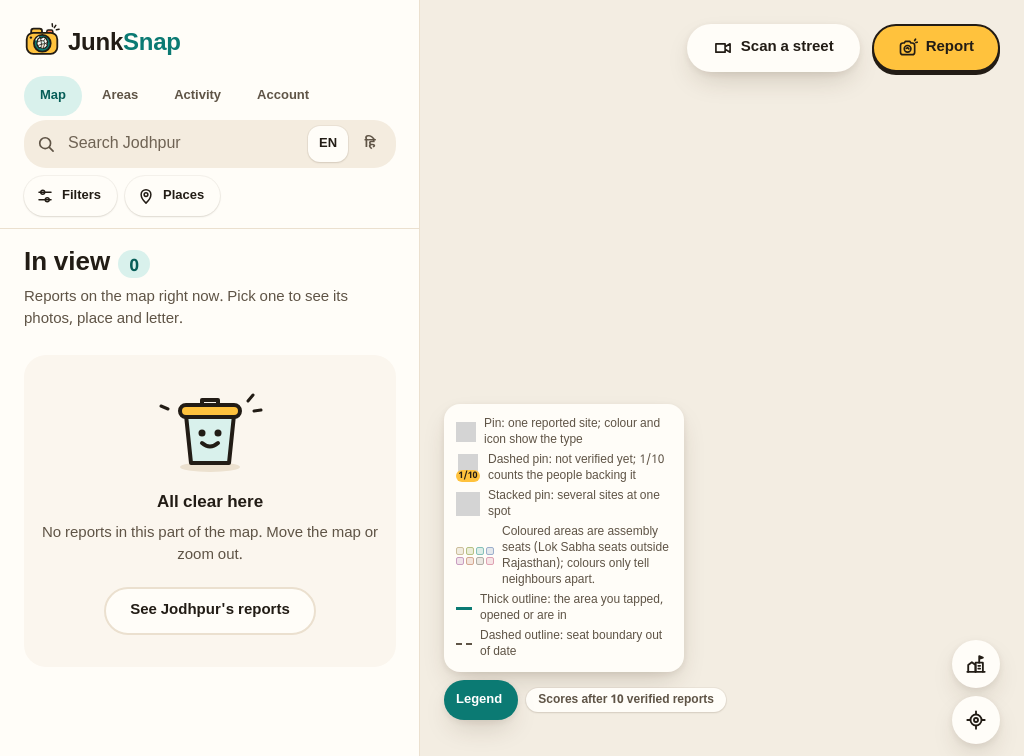
Test: filters sheet › opens from the Filters pill with map modes and type counts
Click the button "Filters".
click(70, 196)  # box [24,176,117,216]
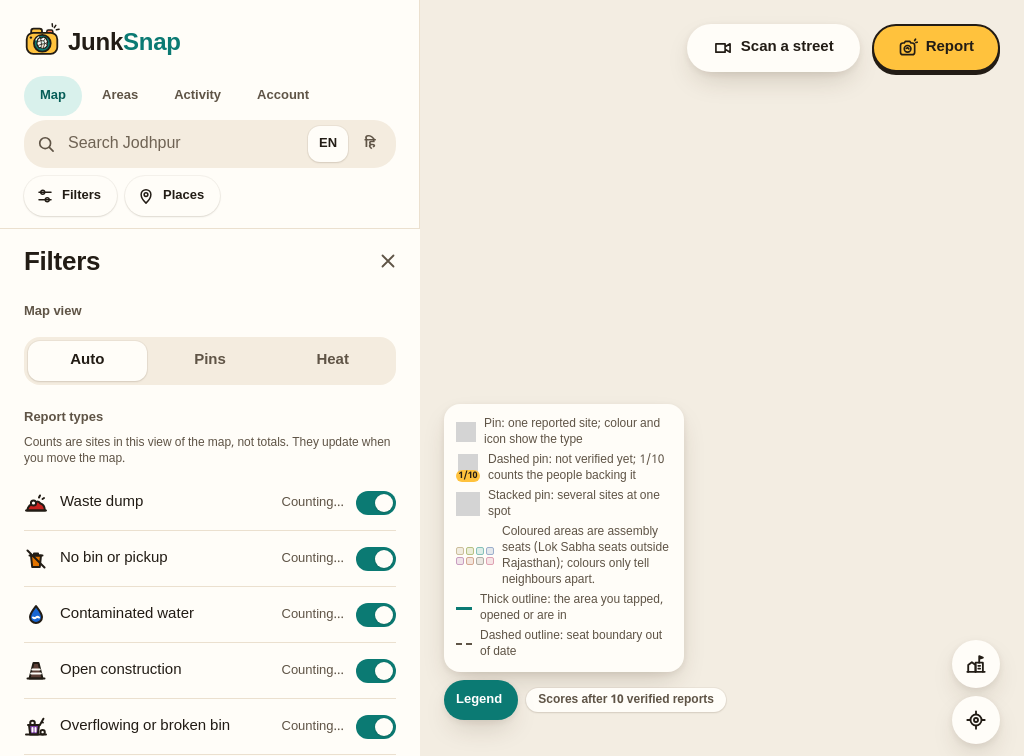
Click the switch labelled "Waste dump Counting…".
click(102, 502)  # box [24,475,396,531]
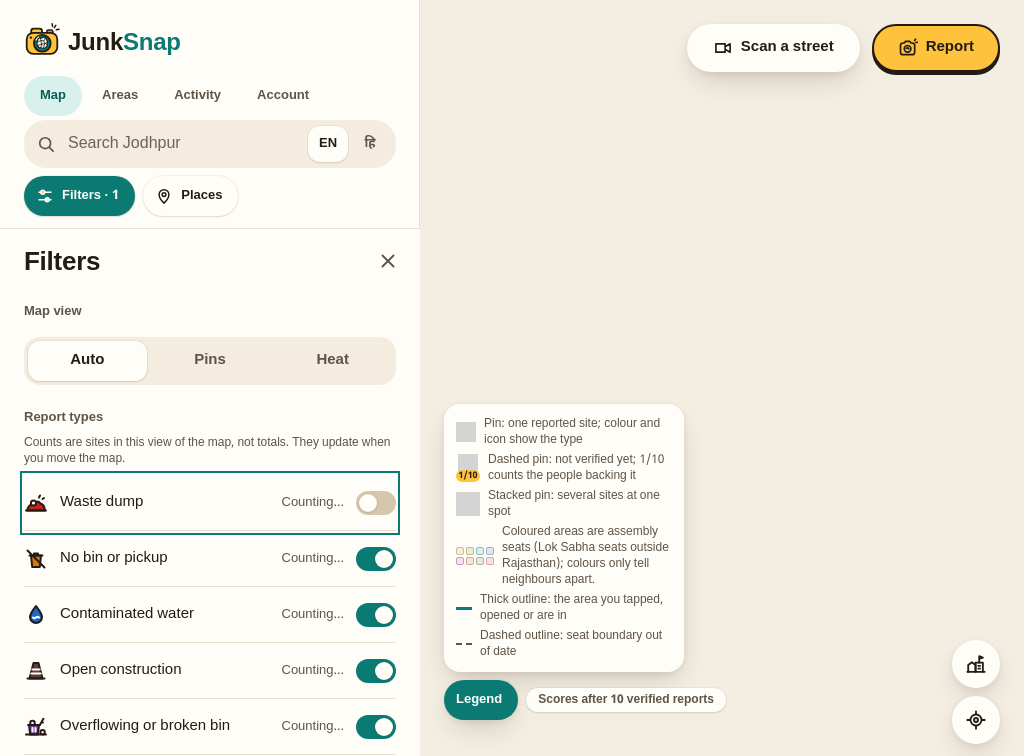
Expected: the button "Filters · 1" is shown, [24,176,135,216]
